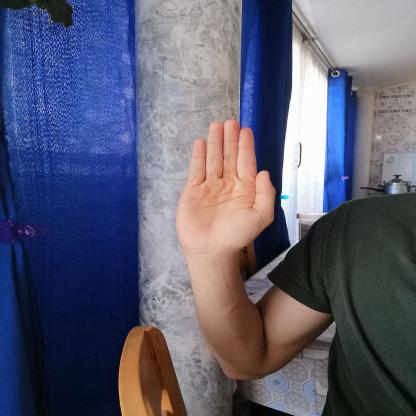SEEN: (166, 112, 284, 258)
